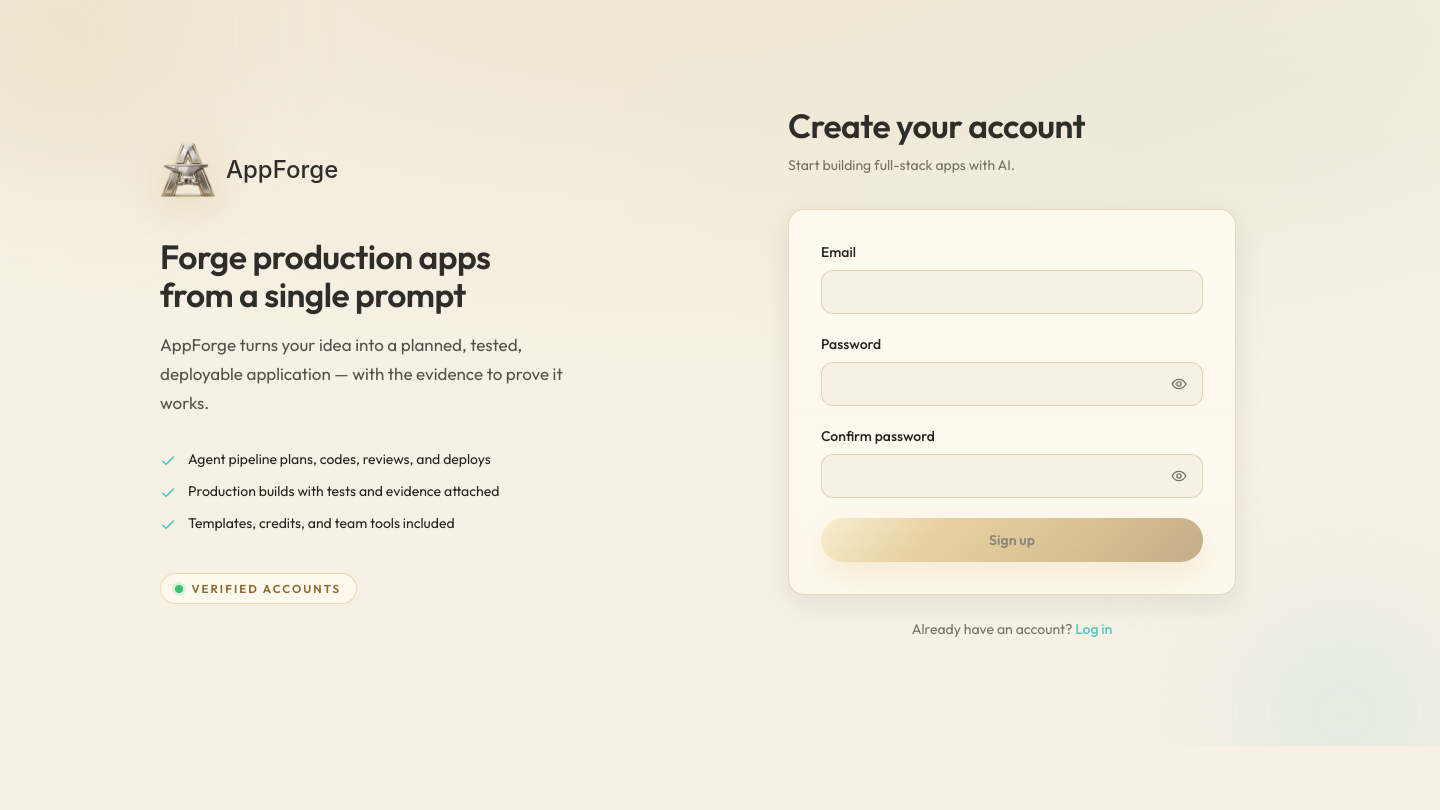
Test: modern create-account page › shows a live password strength meter and mismatch feedback
The image size is (1440, 810).
In the password field labelled "Password": (1012, 384) [821, 362, 1203, 406], type "ForgeBuilder1!"
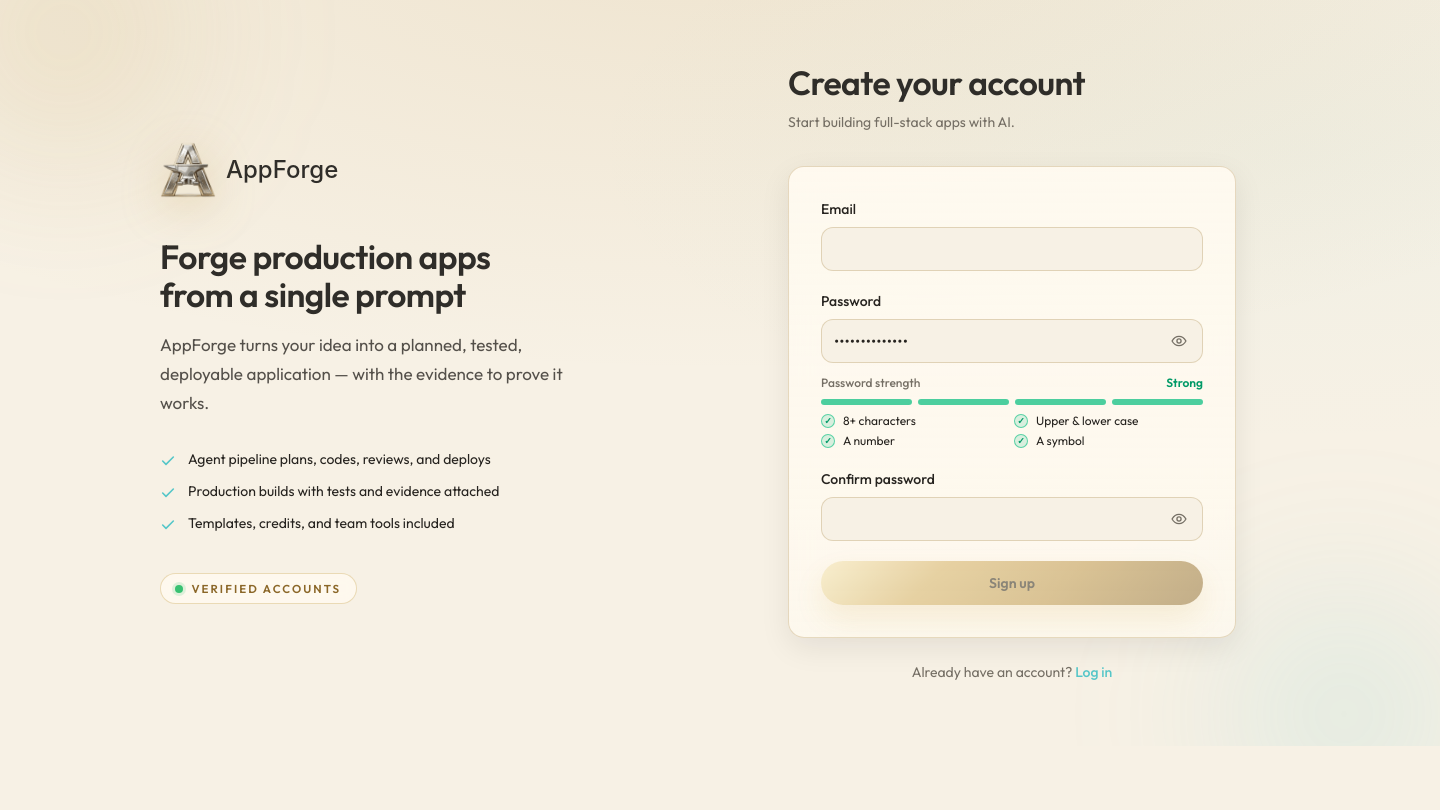
Result: the element with test id "password-strength" is shown at [821, 374, 1203, 448]
Result: the text with test id "password-strength-level" reads "Strong" at [1166, 374, 1203, 390]
In the password field labelled "Confirm password": (1012, 518) [821, 496, 1203, 540], type "Different1!"
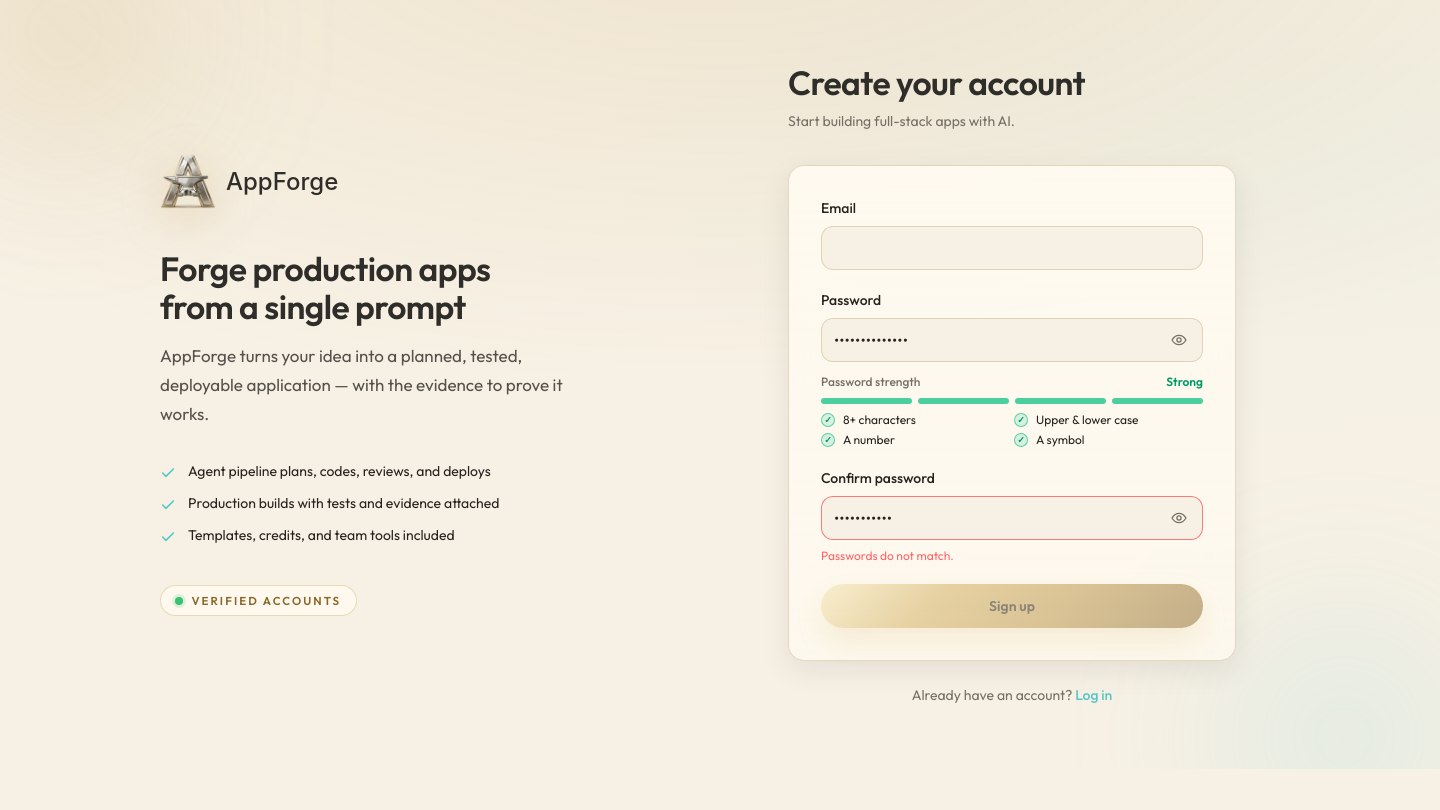
Result: the text "Passwords do not match." is shown at [821, 548, 954, 563]
